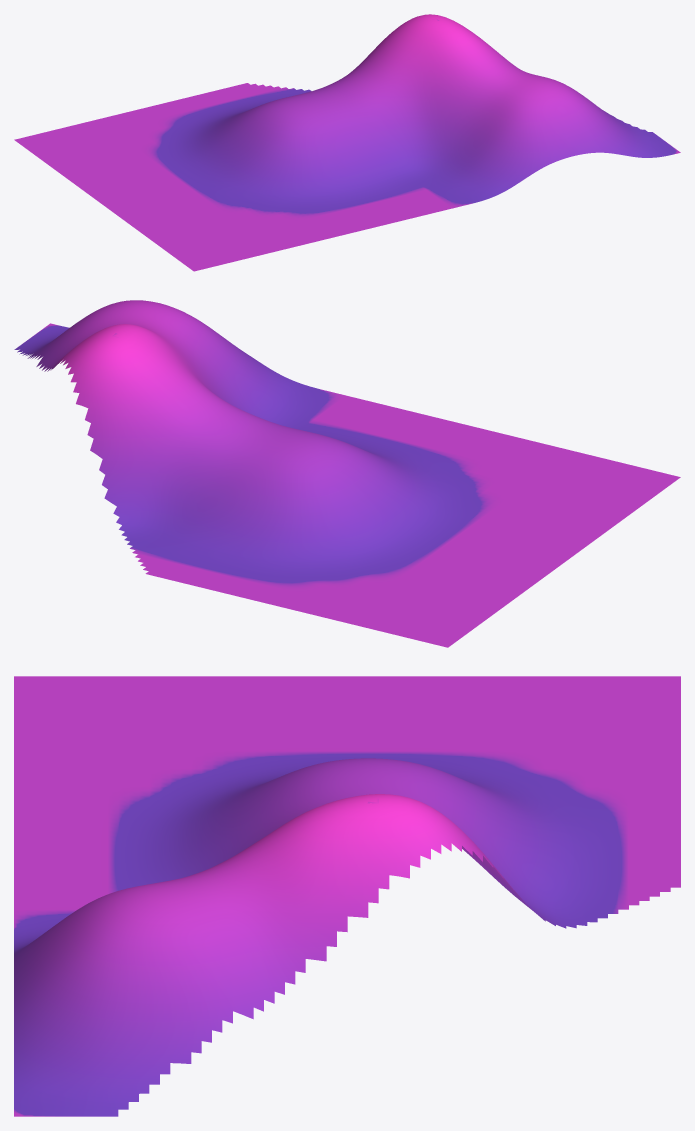
Rendered from hillsup.fbx.
3 views of the same model, one above another, from view 1: azimuth 30°, elevation 25°; view 2: azimuth 150°, elevation 25°; view 3: azimuth 270°, elevation 25° (orthographic). The views are drawn at different scales.
Parts seen in each view (by area): view 1: pPlane2; view 2: pPlane2; view 3: pPlane2.
Part boxes in pixels (x1=…): pPlane2: x1=14, y1=14, x2=680, y2=271; pPlane2: x1=14, y1=300, x2=680, y2=647; pPlane2: x1=14, y1=676, x2=680, y2=1116.
Size of the model in its own units: 500 by 96.05 by 320.
